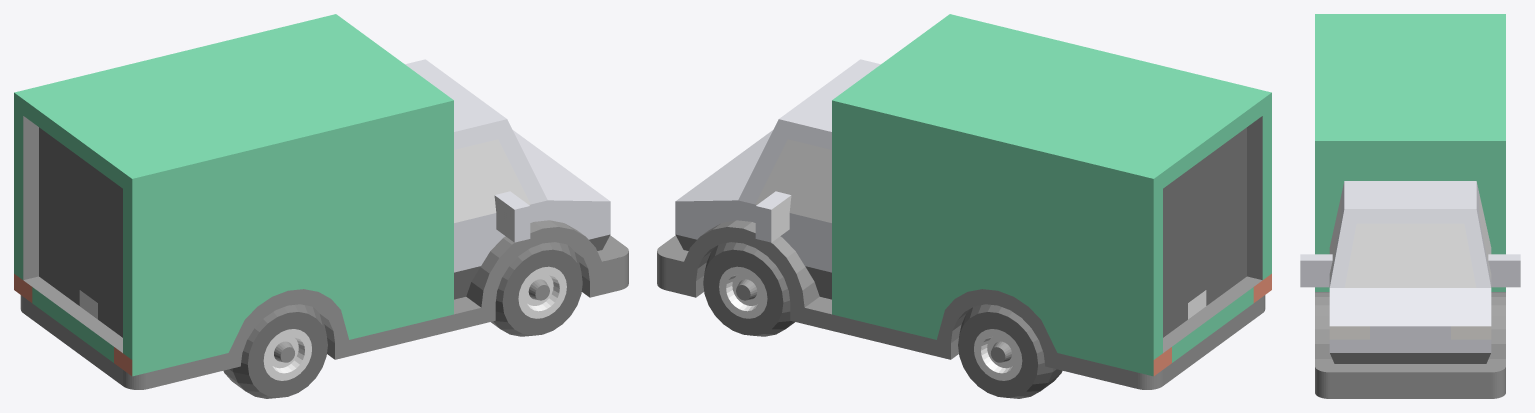
Rendered from Delivery.dae.
The picture shows the model from 3 angles, left to right: view 1: azimuth 30°, elevation 25°; view 2: azimuth 150°, elevation 25°; view 3: azimuth 270°, elevation 25°; orthographic projection. The views are drawn at different scales.
Visible parts, largest first — view 1: body, door, wheel_backLeft, wheel_frontLeft; view 2: body, door, wheel_backRight, wheel_frontRight; view 3: body.
Boxes of the visible parts, <box> form: body: <box>14,14,628,389</box>; door: <box>39,127,122,337</box>; wheel_backLeft: <box>223,304,327,398</box>; wheel_frontLeft: <box>491,242,582,336</box>; body: <box>657,14,1271,389</box>; door: <box>1163,127,1246,337</box>; wheel_backRight: <box>958,304,1062,398</box>; wheel_frontRight: <box>703,242,794,336</box>; body: <box>1300,14,1520,398</box>.
Size of the model in its own units: 2.4 by 1.13 by 1.2.
